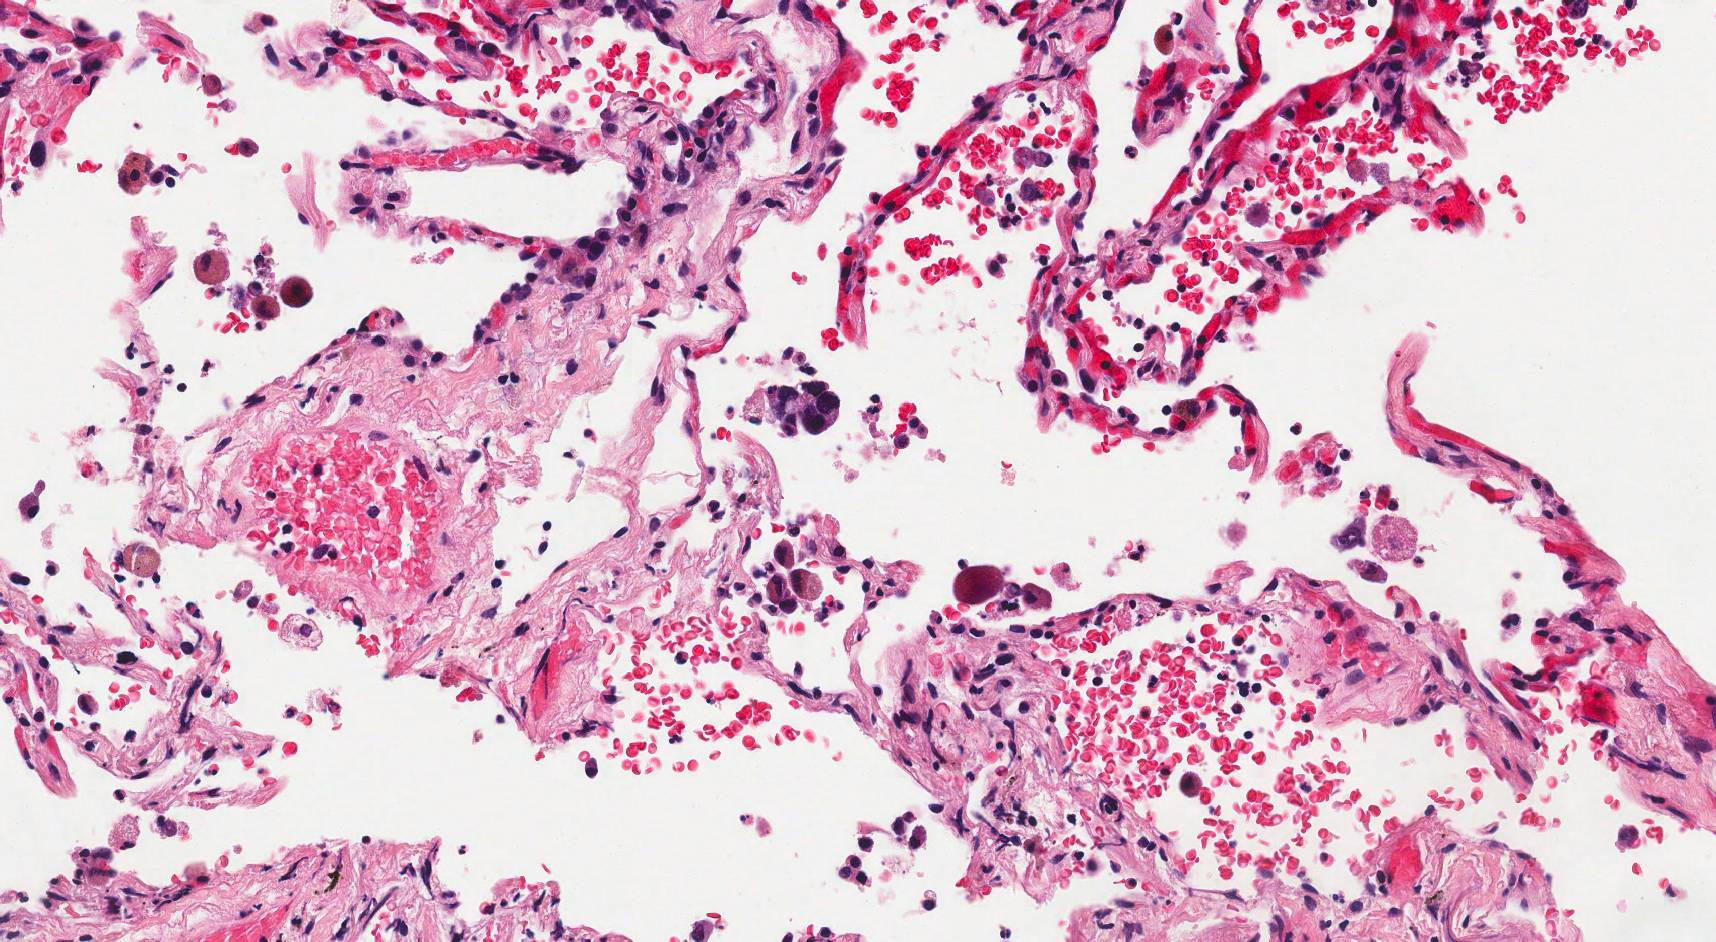stas: (765, 381, 842, 434)
